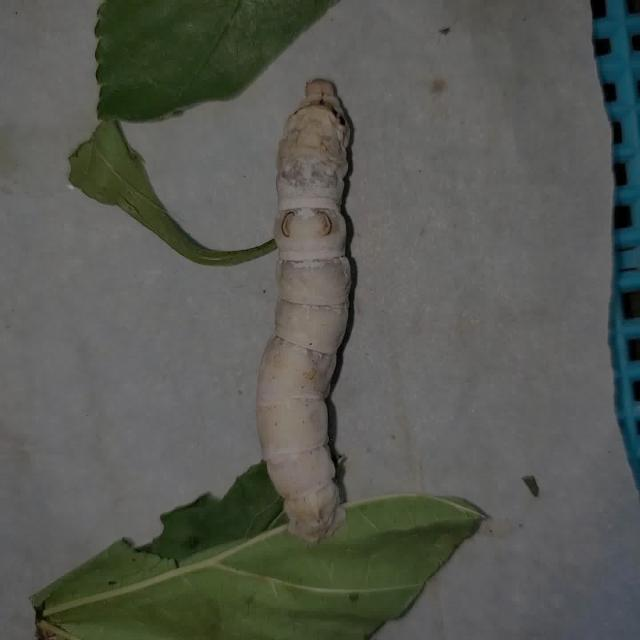Grasserie: (228, 49, 470, 560)
